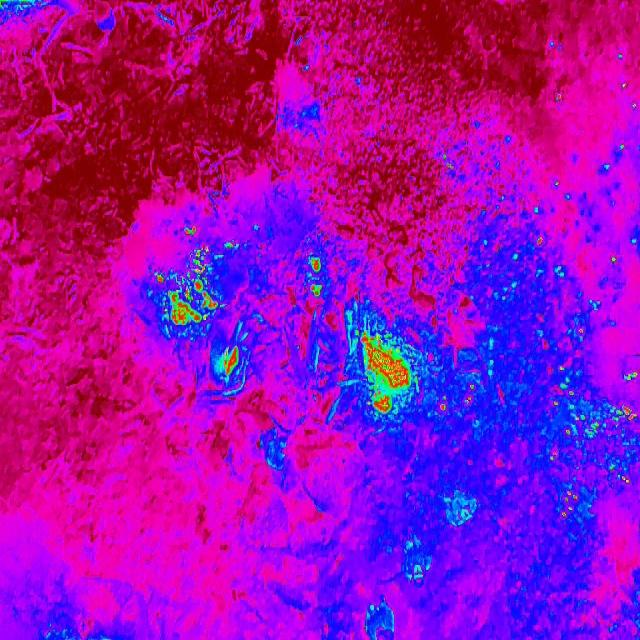fire: (518, 358, 630, 522), (522, 182, 636, 276), (151, 222, 218, 332), (353, 331, 416, 420), (434, 373, 484, 425), (304, 254, 328, 300), (218, 339, 241, 385), (603, 403, 639, 429), (620, 368, 640, 388)
